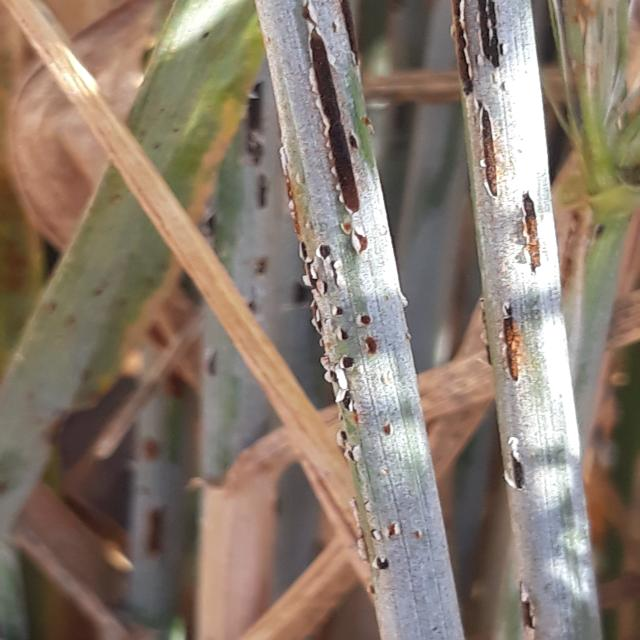black_stem_rust: (8, 3, 640, 640)
